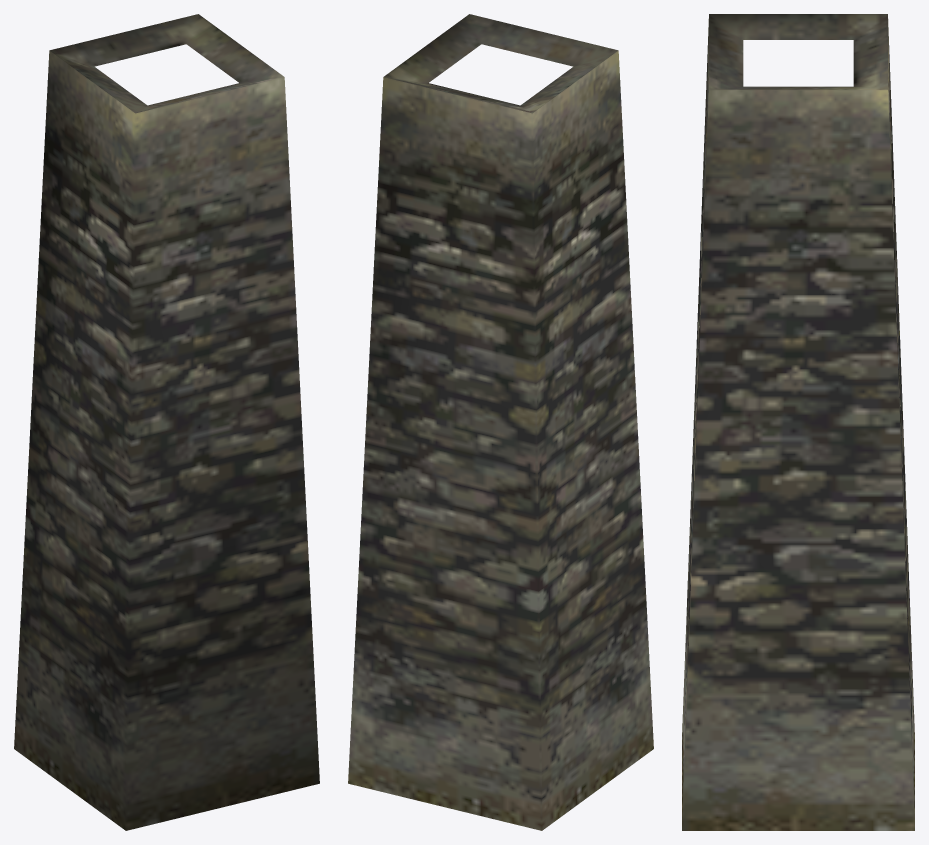
Rendered from OZ_09_kn_Cpot01A.glb.
3 views of the same model, side by side, from view 1: azimuth 30°, elevation 25°; view 2: azimuth 150°, elevation 25°; view 3: azimuth 270°, elevation 25° (orthographic). The views are drawn at different scales.
Parts seen in each view (by area): view 1: OM_09_kn_Cpot01A; view 2: OM_09_kn_Cpot01A; view 3: OM_09_kn_Cpot01A.
Part boxes in pixels (x1,y1,x2,y2): OM_09_kn_Cpot01A: (14,14,319,830); OM_09_kn_Cpot01A: (348,14,653,830); OM_09_kn_Cpot01A: (682,14,914,830).
Bounding box in the file's own units: 1.3 × 4.5 × 1.3.
1 material, 1 textured.
